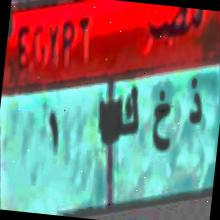1: (43, 104, 64, 162)
kaaf: (112, 78, 145, 145)
khaa: (144, 84, 177, 158)
zaal: (181, 72, 209, 136)
